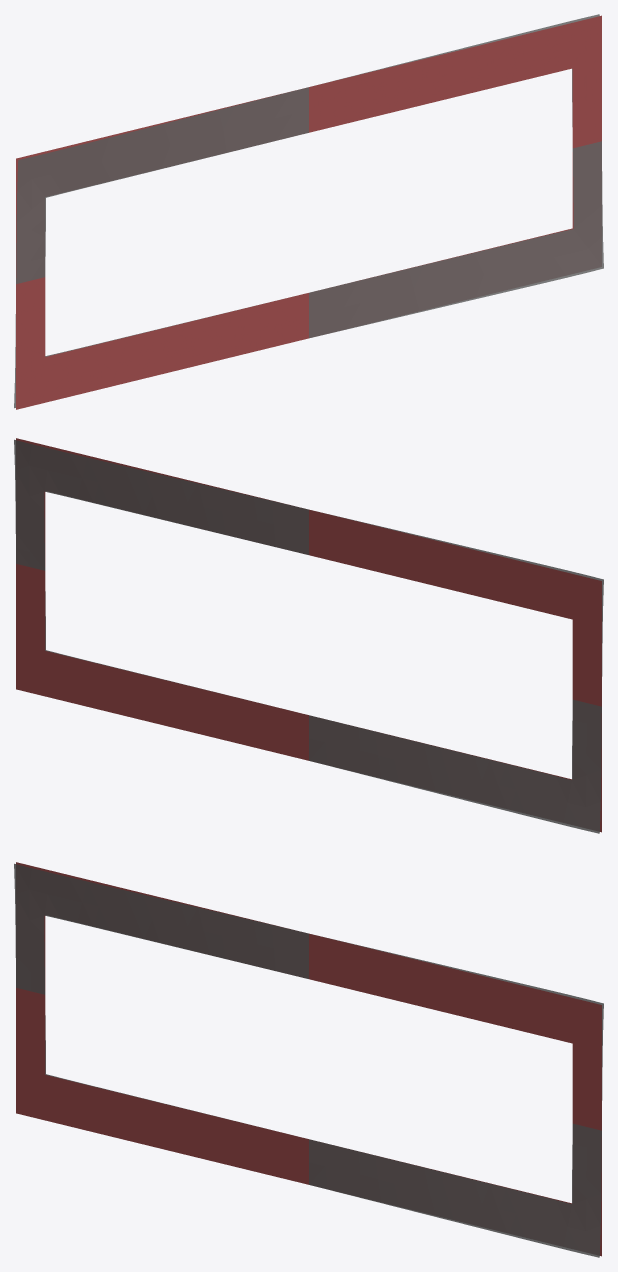
Rendered from warping-box-66-161-12-8-243.glb.
3 views of the same model, one above another, from view 1: azimuth 30°, elevation 25°; view 2: azimuth 150°, elevation 25°; view 3: azimuth 330°, elevation 25° (orthographic).
Visible parts, largest first — view 1: undeformed cross-section, cross-section with warping; view 2: undeformed cross-section, cross-section with warping; view 3: undeformed cross-section, cross-section with warping.
Part boxes in pixels (<box>): undeformed cross-section: <box>16,15,601,409</box>; cross-section with warping: <box>14,14,603,408</box>; undeformed cross-section: <box>16,438,601,832</box>; cross-section with warping: <box>14,439,603,833</box>; undeformed cross-section: <box>16,862,601,1256</box>; cross-section with warping: <box>14,863,603,1257</box>.
Size of the model in its own units: 0.161 by 0.066 by 0.0022.
